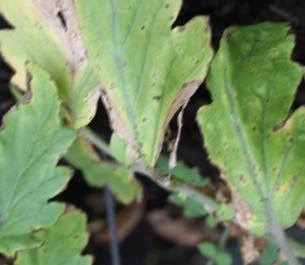Tomato Early blight leaf: (70, 0, 217, 173), (197, 19, 305, 234), (0, 57, 82, 262)
